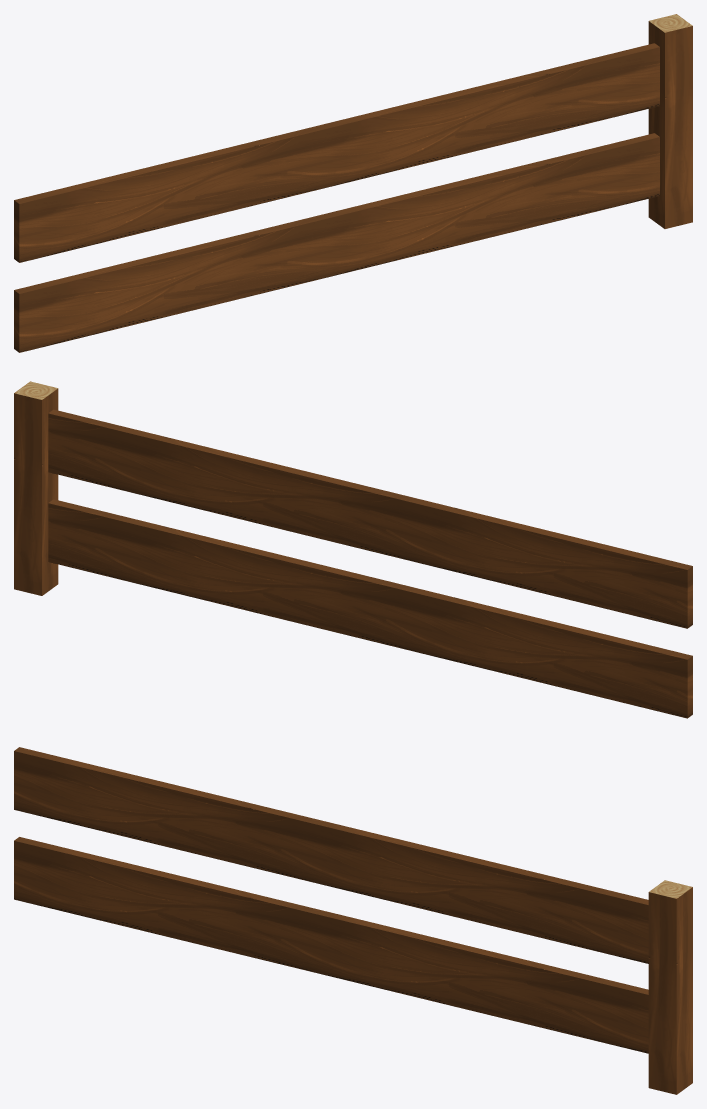
File: Fence.FBX
3 renders of one model, top to bottom at view 1: azimuth 30°, elevation 25°; view 2: azimuth 150°, elevation 25°; view 3: azimuth 330°, elevation 25°, orthographic.
Parts seen in each view (by area): view 1: Fence_Beam (×2), Fence_Post; view 2: Fence_Beam (×2), Fence_Post; view 3: Fence_Beam (×2), Fence_Post.
Part boxes in pixels (x1,y1,x2,y2): Fence_Beam (×2): (14, 43, 659, 352); Fence_Post: (648, 14, 692, 228); Fence_Beam (×2): (48, 409, 692, 718); Fence_Post: (14, 381, 58, 595); Fence_Beam (×2): (14, 747, 648, 1053); Fence_Post: (648, 880, 692, 1094).
Size of the model in its own units: 71.26 by 20 by 3.
3 materials, 3 textured.
